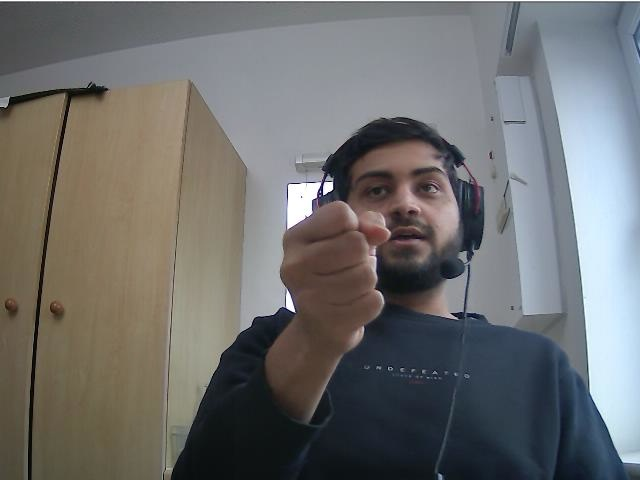hold: (279, 199, 393, 344)
